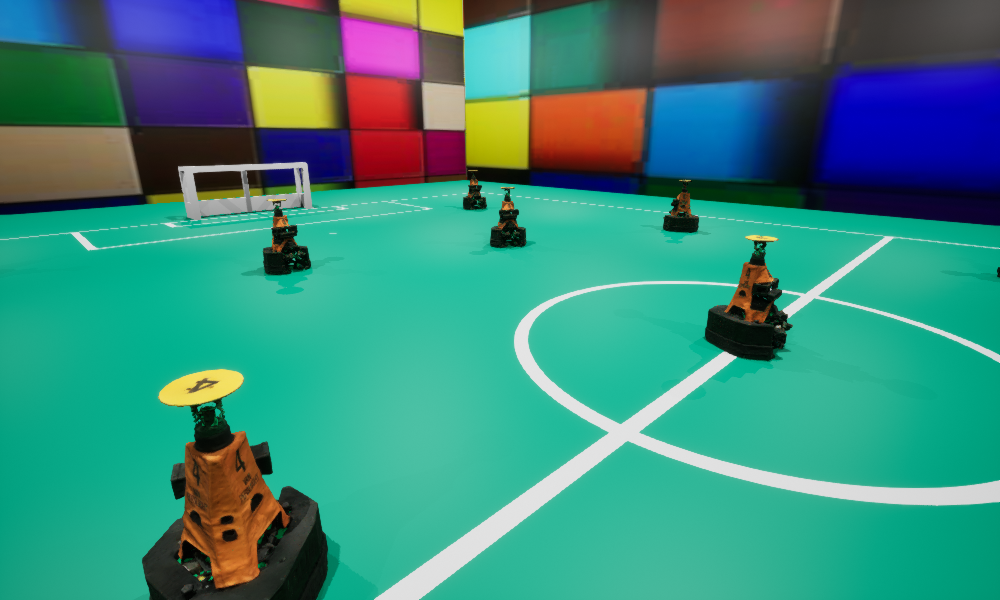o: (142, 369, 327, 599), (705, 235, 792, 360), (263, 199, 310, 274), (490, 187, 526, 247), (663, 180, 698, 232), (463, 170, 486, 209), (997, 267, 999, 277)
